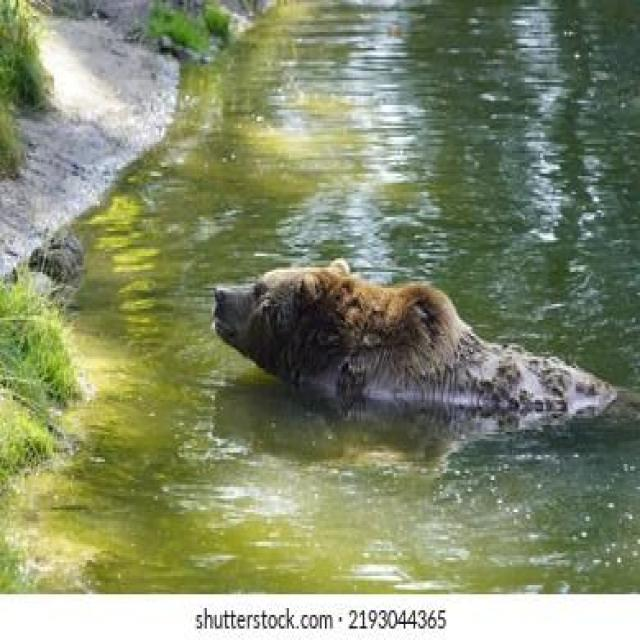Bear: (212, 263, 622, 430)
